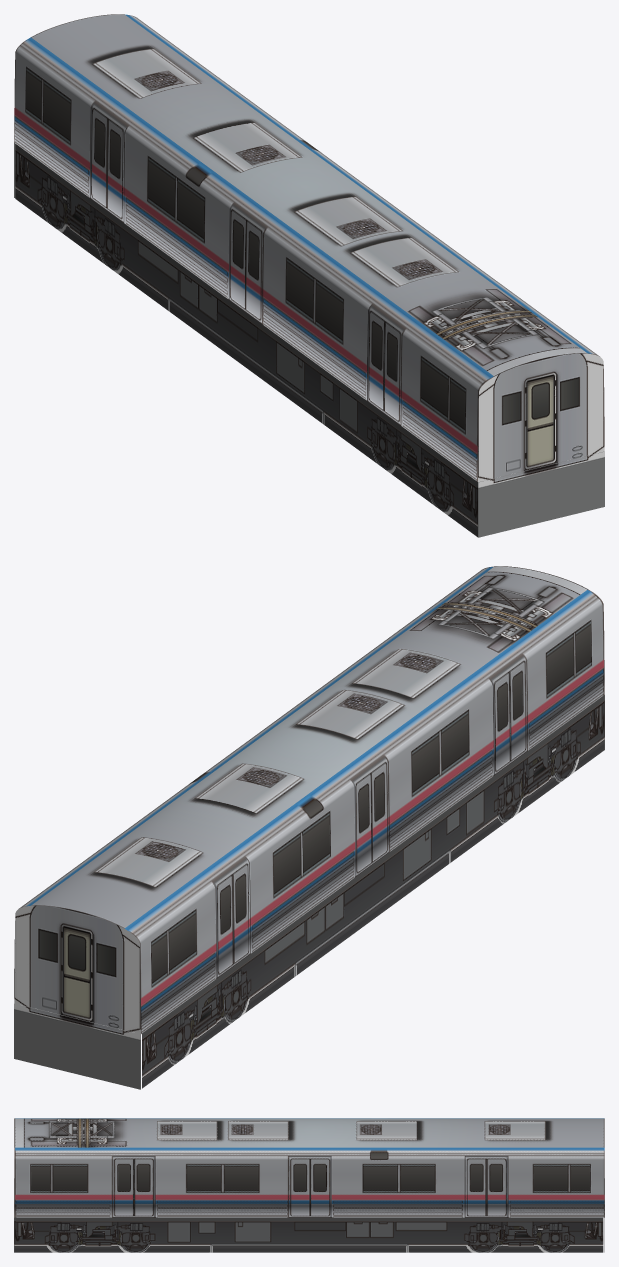
The model's file is car2.glb.
3 views of the same model, one above another, from view 1: azimuth 30°, elevation 25°; view 2: azimuth 150°, elevation 25°; view 3: azimuth 270°, elevation 25° (orthographic). The views are drawn at different scales.
Parts seen in each view (by area): view 1: keisei-3600-car2; view 2: keisei-3600-car2; view 3: keisei-3600-car2.
Part boxes in pixels (x1,y1,x2,y2): keisei-3600-car2: [14, 14, 604, 537]; keisei-3600-car2: [14, 566, 604, 1089]; keisei-3600-car2: [14, 1118, 604, 1252].
Bounding box in the file's own units: 2.76 × 3.39 × 17.53.
Materials: 9 (8 with a texture image).
